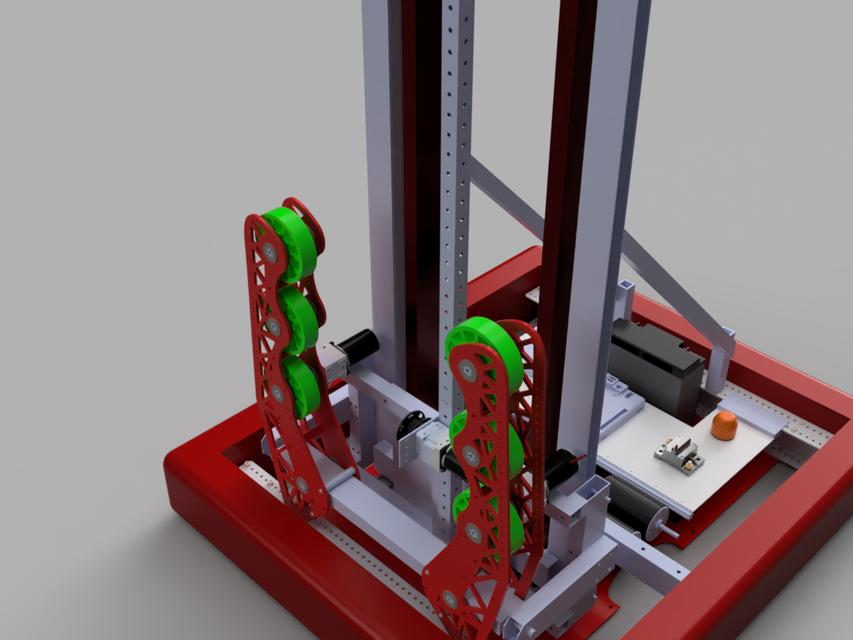robot: (165, 0, 853, 640)
